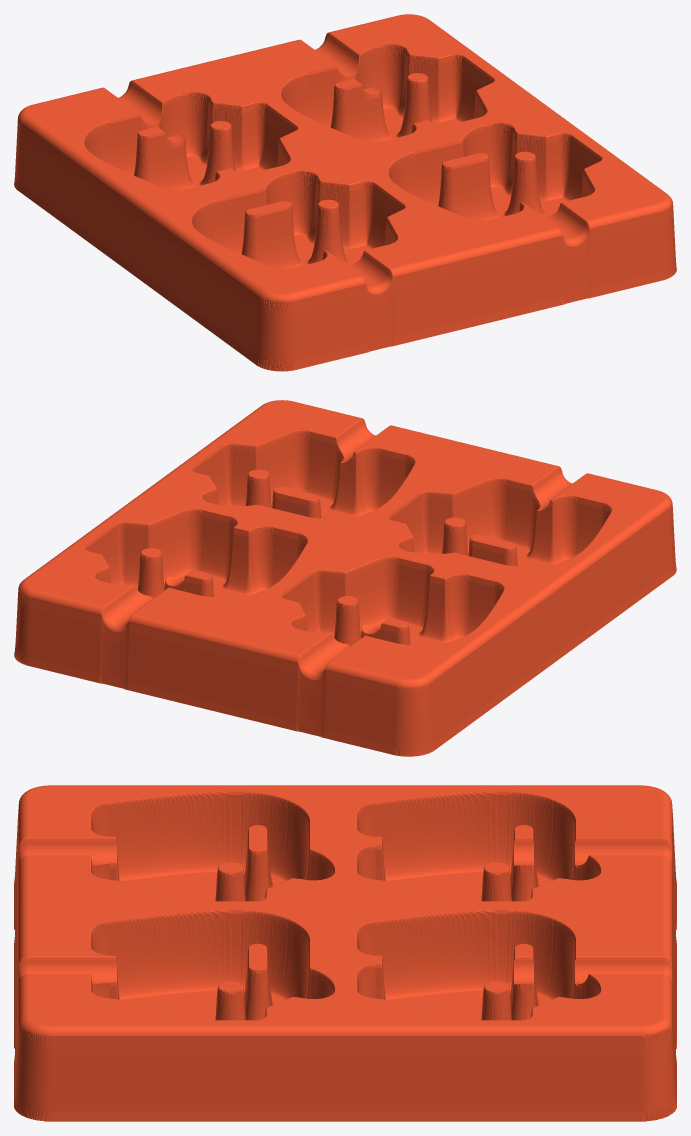
File: mold.glb
3 views of the same model, one above another, from view 1: azimuth 30°, elevation 25°; view 2: azimuth 150°, elevation 25°; view 3: azimuth 270°, elevation 25° (orthographic). The views are drawn at different scales.
Visible parts, largest first — view 1: geometry_0; view 2: geometry_0; view 3: geometry_0.
Boxes of the visible parts, x1,y1,x2,y2 form: geometry_0: (14, 14, 676, 371); geometry_0: (14, 400, 676, 756); geometry_0: (14, 785, 676, 1121).
Size of the model in its own units: 0.1468 by 0.0245 by 0.1636.
